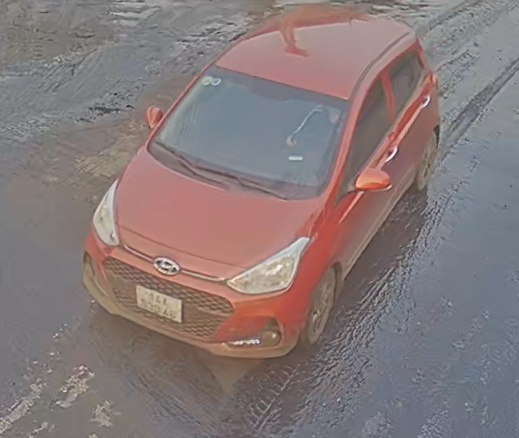vehicle plate: (130, 280, 189, 327)
